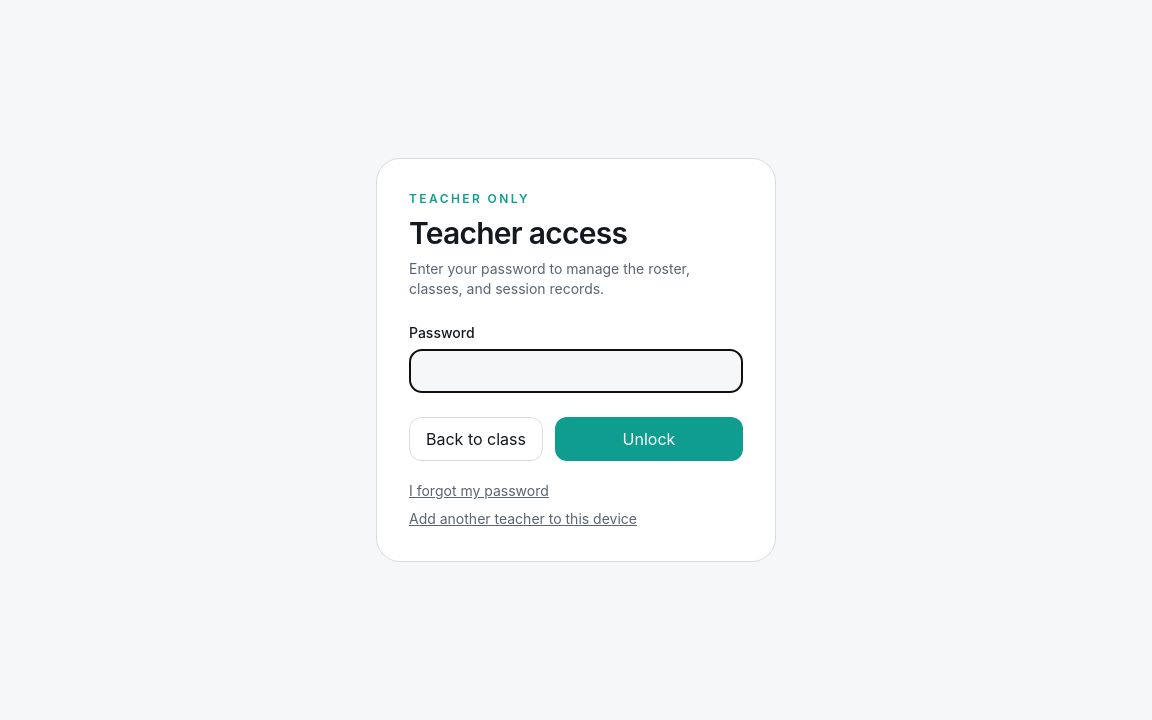
Test case: session correction › closes an open session and corrects its times
This screenshot has width=1152, height=720.
Type "Bio Room 214!" into the password field labelled "Password" at (576, 371), box [409,349,743,393]
Click the button "Unlock" at (649, 439), box [555,417,743,461]
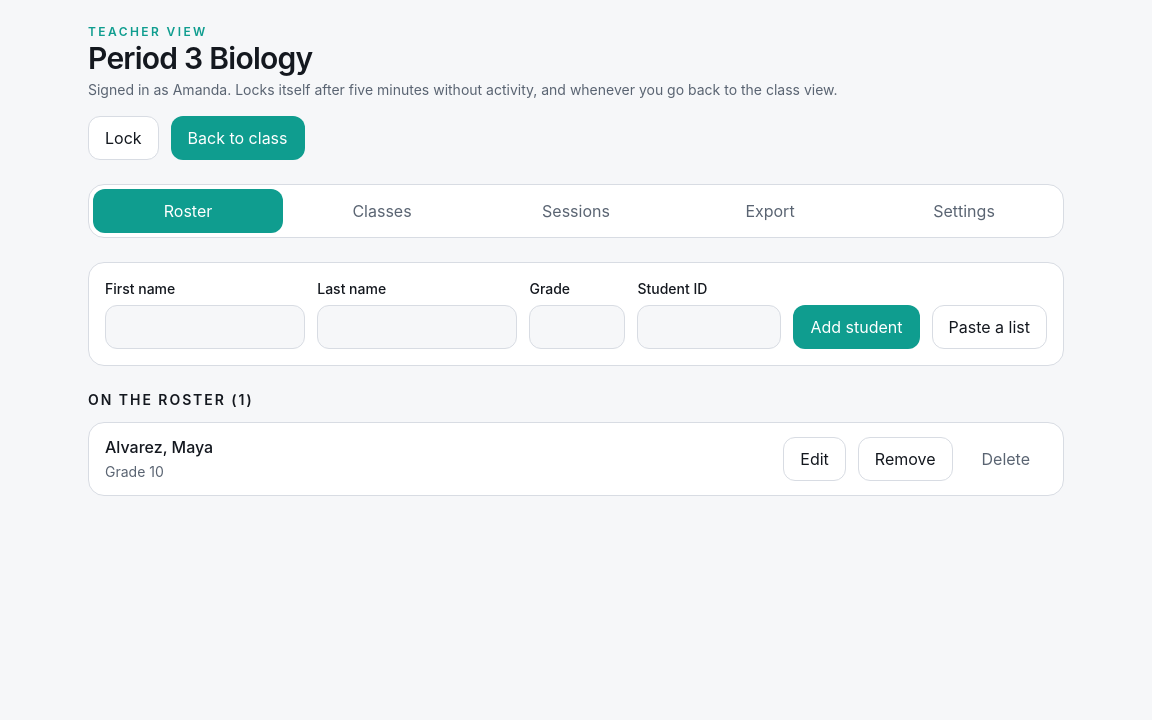
expect the heading "Period 3 Biology" is shown: met, box [88,40,312,76]
Click the button "Sessions" at (576, 211), box [481,189,671,233]
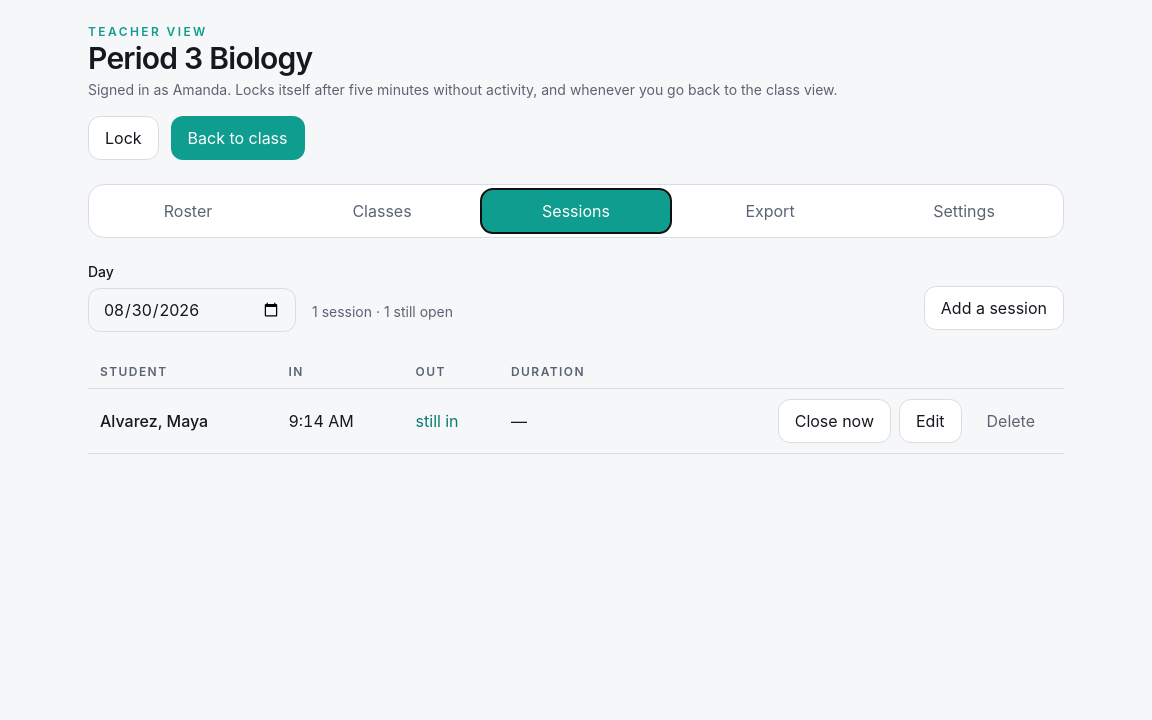
expect the text "still in" is shown: met, box [416,411,458,431]
Click the button "Close now" at (834, 421), box [778,399,891,443]
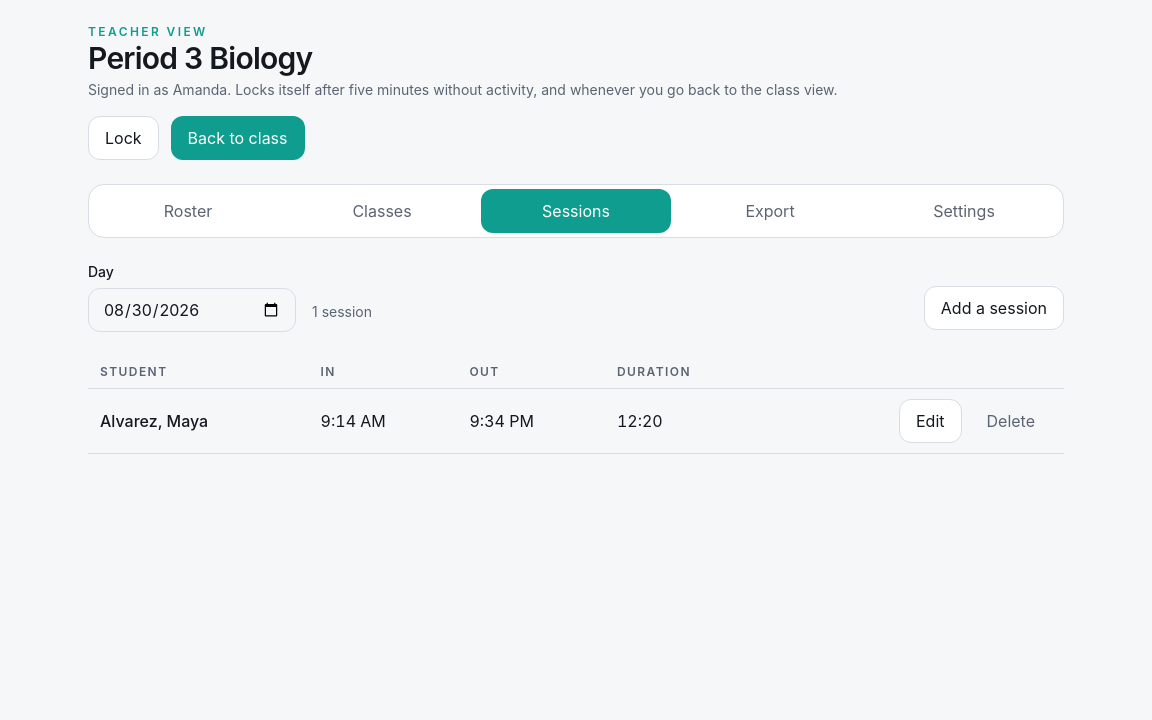
expect the text "still in" is gone: met
Click the button "Edit" at (930, 421), box [899,399,962,443]
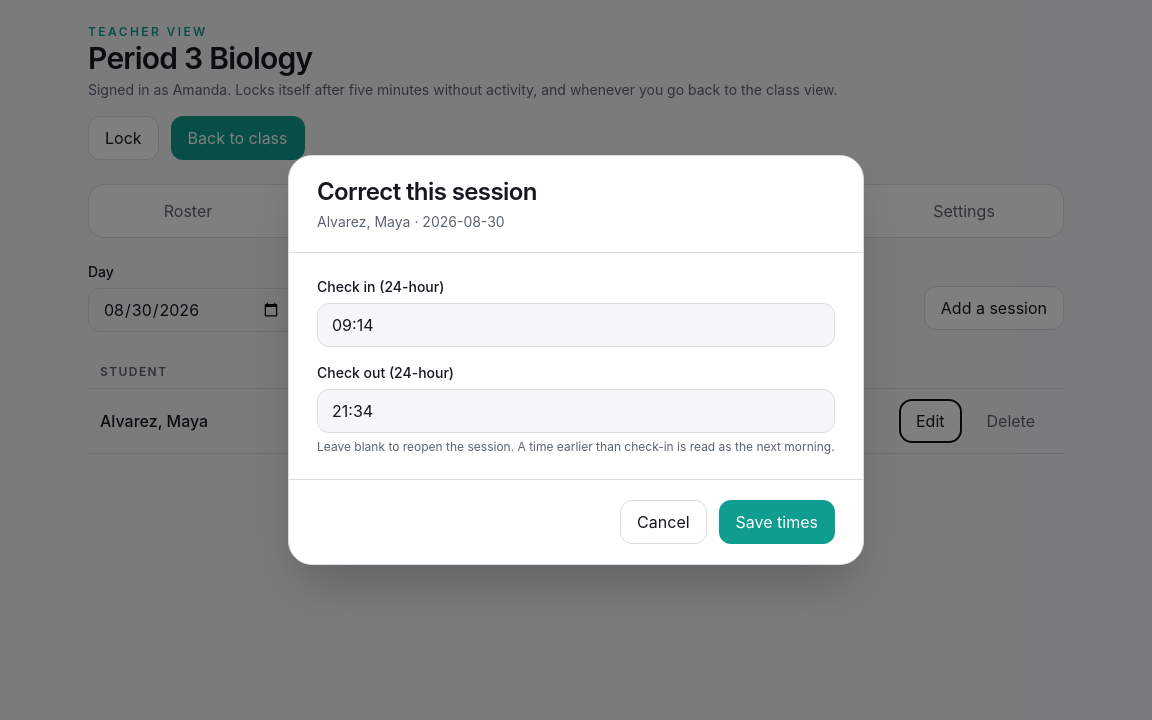
Replace the text in the field labelled "Check out (24-hour)" with "10:47" at (576, 411), box [317,389,835,433]
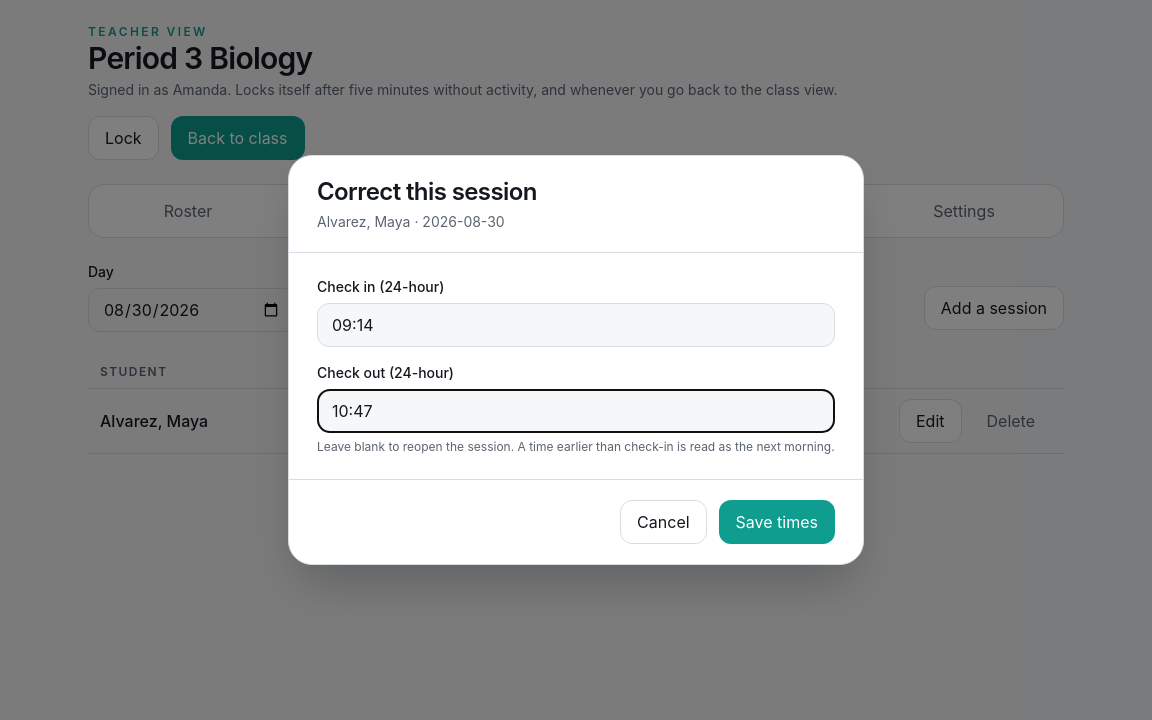
Click the button "Save times" at (777, 522), box [719,500,835,544]
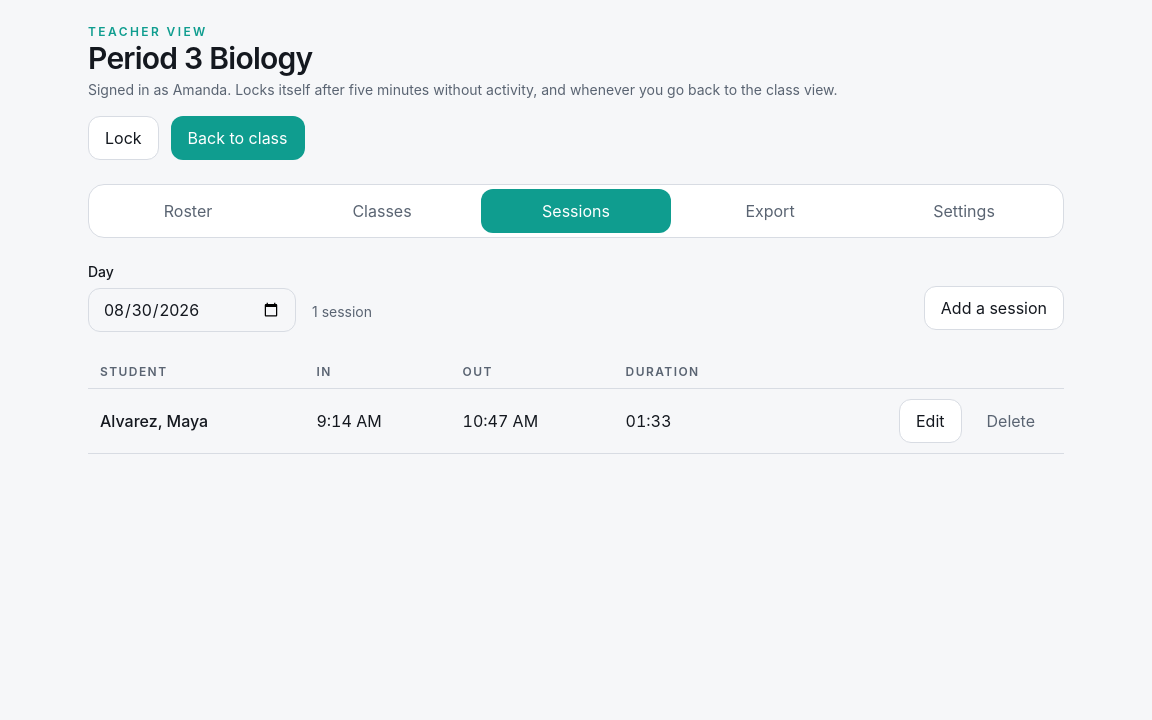
expect the text "01:33" is shown: met, box [614,389,774,454]
